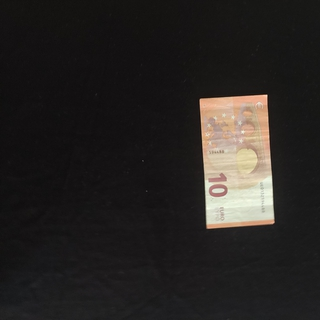10EUROBack: (199, 94, 275, 229)
